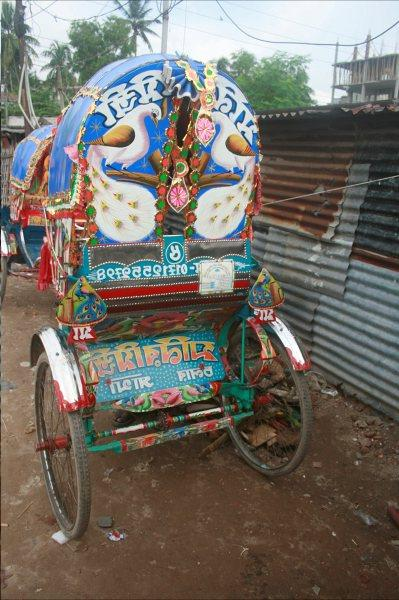Rickshaw: (45, 39, 303, 514), (2, 119, 64, 297)
